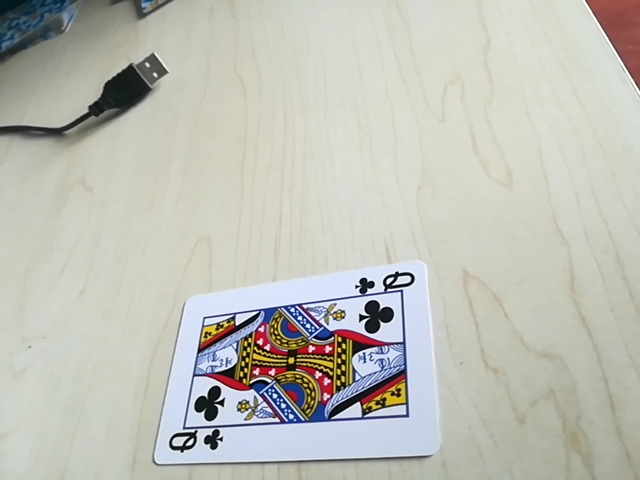mh q: (163, 424, 226, 462), (357, 268, 418, 297)
